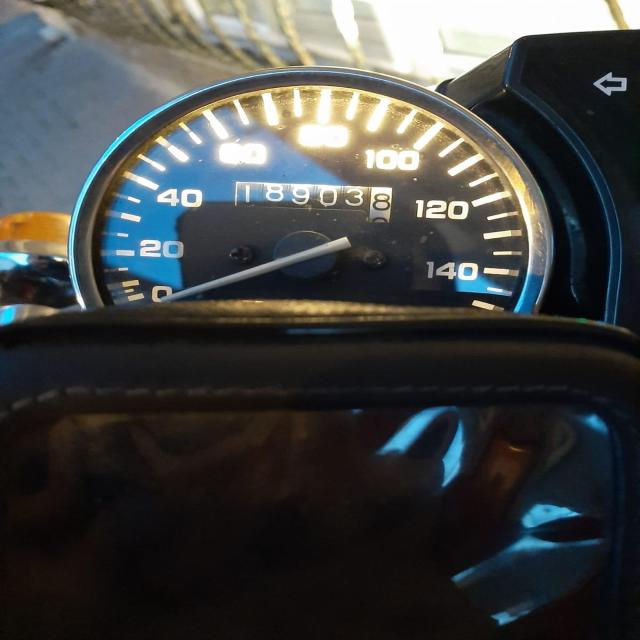odometer: (230, 177, 403, 228)
